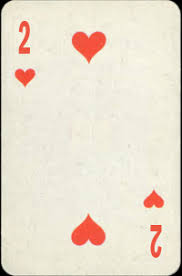two of hearts: (2, 2, 179, 273)
